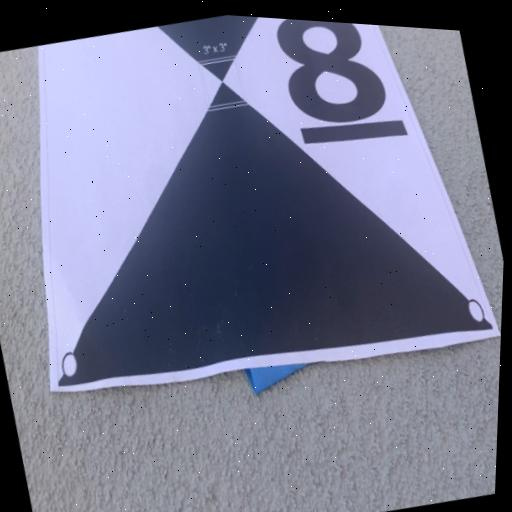target8: (39, 15, 501, 394)
